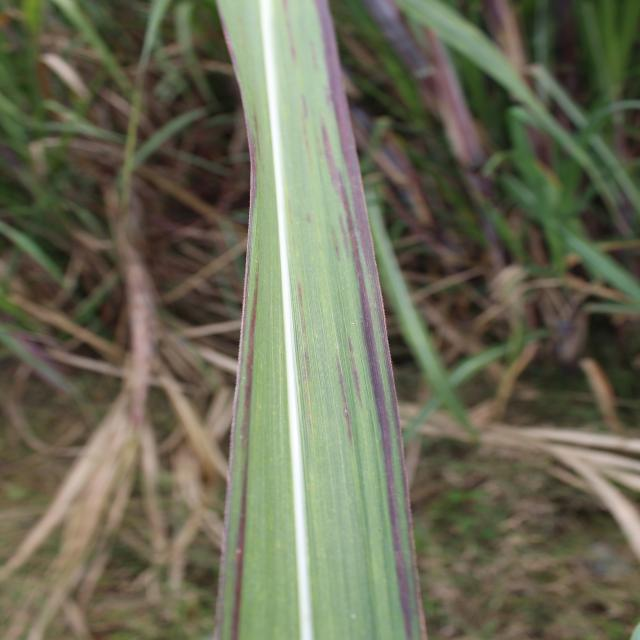Sugarcane: (227, 0, 500, 640), (213, 0, 428, 640), (351, 119, 640, 292), (120, 0, 284, 216), (343, 3, 541, 111), (495, 92, 638, 230), (4, 0, 129, 138), (169, 0, 236, 135), (121, 0, 209, 85), (209, 9, 263, 143), (516, 150, 636, 198), (375, 11, 423, 129), (246, 8, 294, 116), (578, 159, 640, 235), (513, 50, 636, 72), (618, 342, 640, 440), (510, 82, 628, 100)
